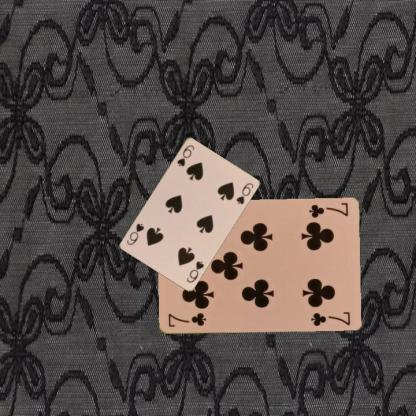6s: (174, 142, 196, 168), (184, 258, 205, 284)
7c: (306, 200, 349, 219), (165, 310, 207, 329)
